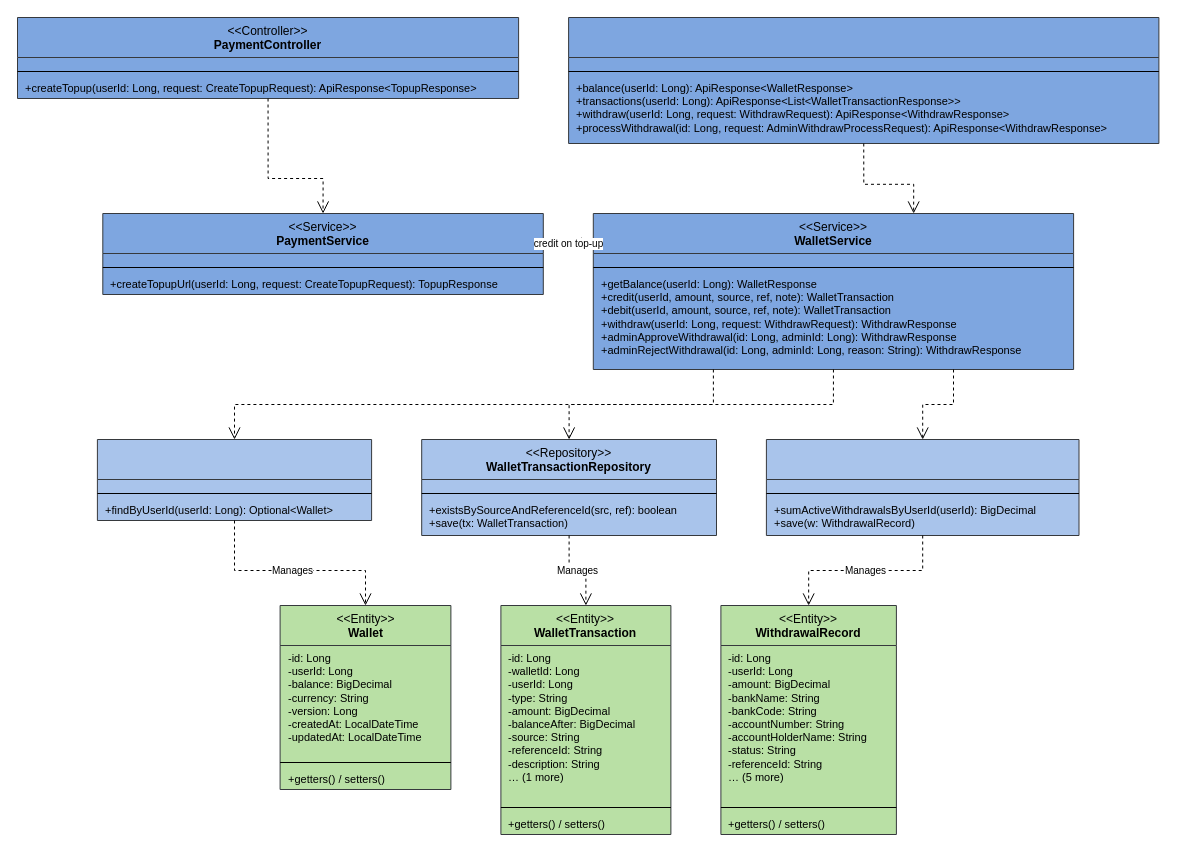
The diagram is 1177 pixels wide and 855 high, and some of its shapes have lost their labels. Here are the shapes that lost their labels. From the top down, the box of each, then its label:
(568, 16, 1159, 144): <<Controller>> WalletController
(96, 438, 372, 520): <<Repository>> WalletRepository
(765, 438, 1079, 536): <<Repository>> WithdrawalRepository
